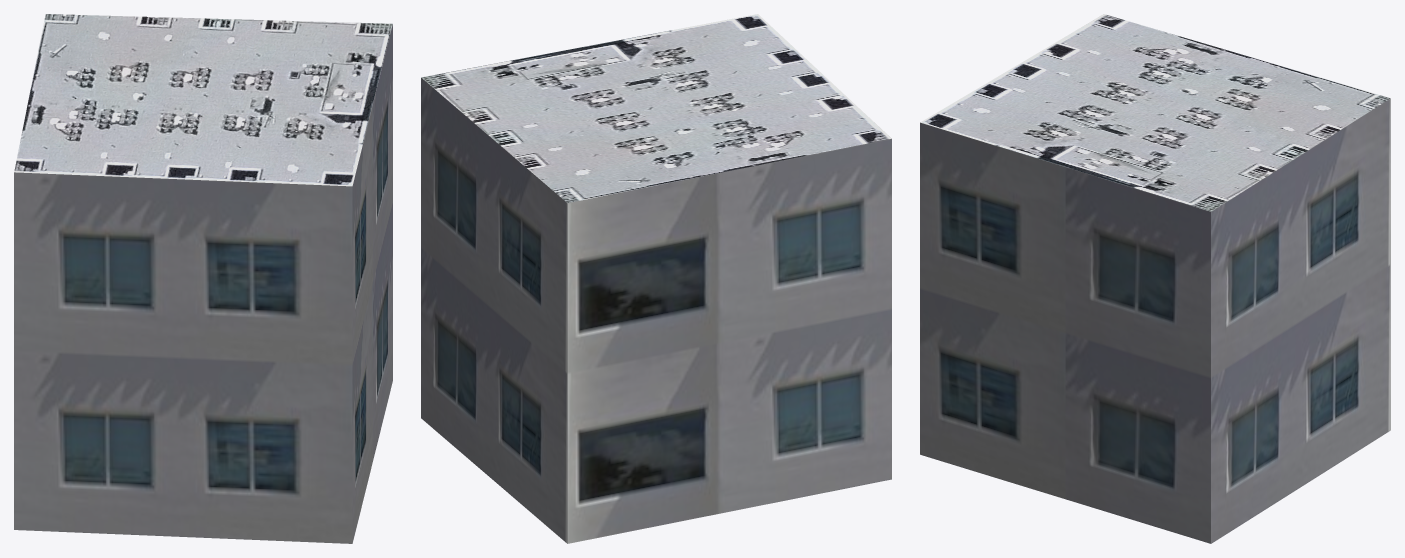
The model's file is ResTex__4272.fbx.
3 views of the same model, side by side, from view 1: azimuth 30°, elevation 25°; view 2: azimuth 150°, elevation 25°; view 3: azimuth 270°, elevation 25° (orthographic). The views are drawn at different scales.
Visible parts, largest first — view 1: CityEngineMaterial_10_m, CityEngineMaterial_m; view 2: CityEngineMaterial_10_m, CityEngineMaterial_m; view 3: CityEngineMaterial_10_m, CityEngineMaterial_m.
Part boxes in pixels (x1=…): CityEngineMaterial_10_m: x1=14, y1=24, x2=392, y2=543; CityEngineMaterial_m: x1=14, y1=14, x2=392, y2=186; CityEngineMaterial_10_m: x1=421, y1=78, x2=891, y2=543; CityEngineMaterial_m: x1=421, y1=14, x2=891, y2=203; CityEngineMaterial_10_m: x1=920, y1=98, x2=1390, y2=543; CityEngineMaterial_m: x1=920, y1=14, x2=1390, y2=211.
Size of the model in its own units: 7.66 by 6 by 7.71.
2 materials, 2 textured.
